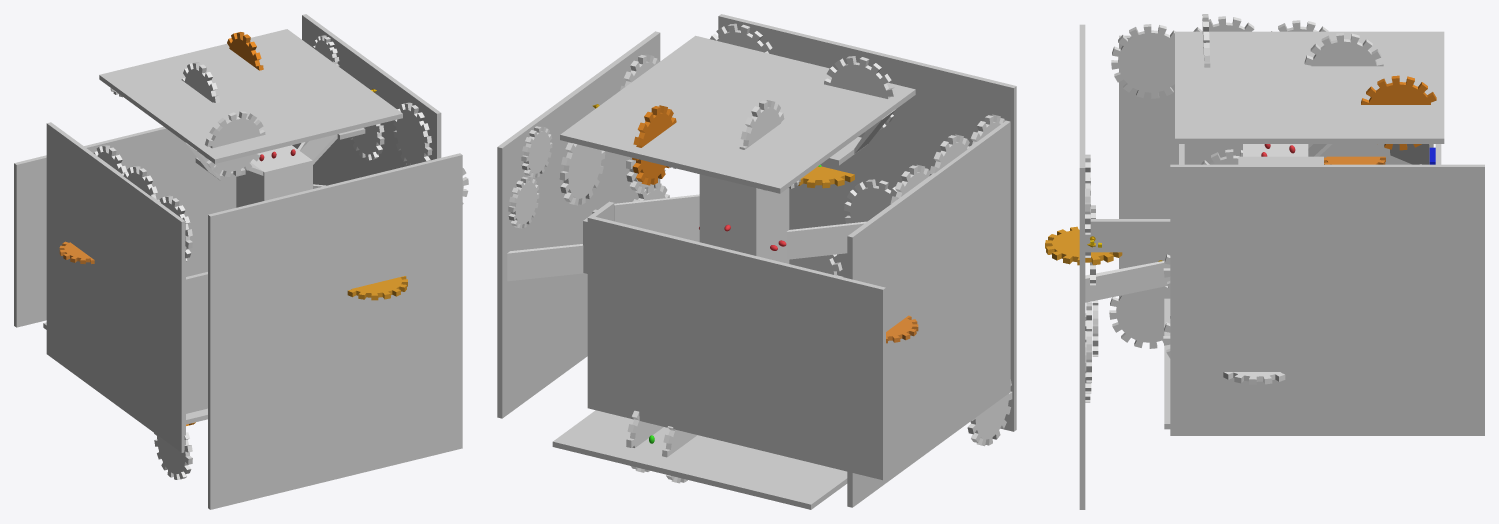
File: 4 directional pillar level .fbx
3 views of the same model, side by side, from view 1: azimuth 30°, elevation 25°; view 2: azimuth 150°, elevation 25°; view 3: azimuth 270°, elevation 25° (orthographic). The views are drawn at different scales.
Parts seen in each view (by area): view 1: Cube.051, Cube.057, Cube.026, Cube.059, Cube.043, Cube.008, Cube.023, Cylinder.019, Cylinder.008, Cylinder.031, Broken Gear 3, Cylinder.003 (+5 smaller); view 2: Cube.059, Cube.057, Cube.026, Cube.043, Cube.051, Cube.028, Cube.008, Cube.013, Cube.045, Cylinder.007, Cube.012, Cylinder.019 (+14 smaller); view 3: Cube.043, Cube.026, Cube.057, Cylinder.024, Cube.051, Cube.020, Cylinder.031, Cube.050, Cylinder.003, First Broken Gear, Broken Gear 3, Cube.008 (+6 smaller).
Part boxes in pixels (x1,y1,x2,y2): Cube.051: [208, 153, 462, 509]; Cube.057: [46, 122, 185, 452]; Cube.026: [99, 29, 402, 163]; Cube.059: [14, 126, 236, 327]; Cube.043: [302, 14, 441, 185]; Cube.008: [236, 145, 312, 207]; Cube.023: [186, 272, 207, 413]; Cylinder.019: [205, 111, 265, 176]; Cylinder.008: [393, 102, 432, 165]; Cylinder.031: [154, 432, 192, 479]; Broken Gear 3: [347, 276, 407, 300]; Cylinder.003: [181, 62, 219, 102]; Cube.059: [587, 215, 885, 480]; Cube.057: [847, 120, 1010, 507]; Cube.026: [560, 35, 915, 193]; Cube.043: [497, 31, 660, 418]; Cube.051: [718, 14, 1016, 431]; Cube.028: [552, 410, 847, 509]; Cube.008: [699, 174, 789, 263]; Cube.013: [614, 194, 699, 229]; Cube.045: [507, 244, 583, 281]; Cylinder.007: [559, 142, 605, 205]; Cube.012: [786, 221, 866, 259]; Cylinder.019: [824, 56, 896, 132]; Cube.043: [1170, 164, 1484, 435]; Cube.026: [1175, 31, 1444, 143]; Cube.057: [1119, 35, 1433, 298]; Cylinder.024: [1111, 24, 1175, 98]; Cube.051: [1079, 24, 1085, 509]; Cube.020: [1085, 219, 1170, 252]; Cylinder.031: [1109, 286, 1170, 348]; Cube.050: [1085, 260, 1170, 302]; Cylinder.003: [1304, 33, 1383, 66]; First Broken Gear: [1361, 75, 1436, 150]; Broken Gear 3: [1045, 226, 1122, 265]; Cube.008: [1243, 144, 1308, 156].
Size of the model in its own units: 14927 by 14877 by 15061.
